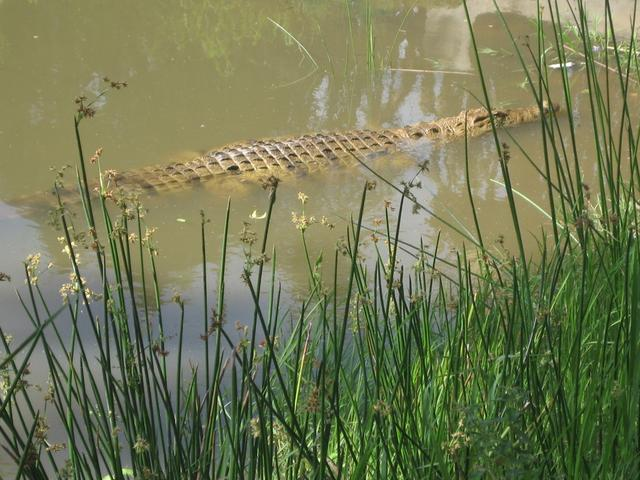crocodile: (3, 84, 620, 227)
